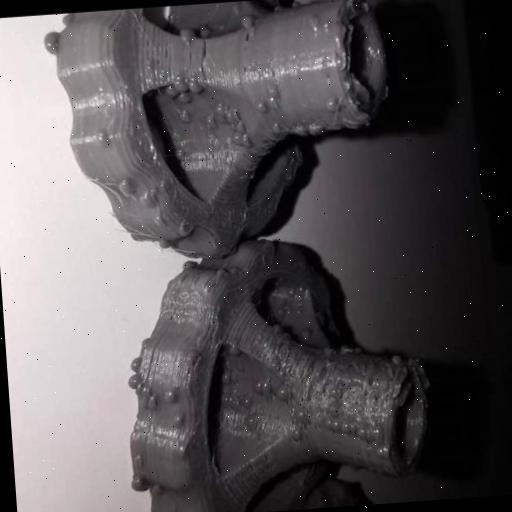blobs: (174, 24, 200, 48), (43, 27, 64, 56), (112, 176, 136, 200), (238, 12, 260, 34), (94, 128, 114, 152), (186, 76, 208, 96), (250, 94, 270, 116), (253, 376, 275, 396), (325, 96, 344, 116), (175, 105, 194, 125), (368, 422, 387, 442), (266, 117, 284, 137), (304, 118, 322, 138), (237, 132, 253, 154), (126, 372, 144, 391), (286, 426, 305, 444), (162, 82, 182, 99), (244, 410, 260, 430), (272, 384, 289, 402), (169, 408, 184, 428), (130, 473, 146, 491), (214, 100, 229, 119), (264, 91, 280, 108), (231, 120, 248, 136), (162, 386, 178, 403), (330, 416, 344, 434), (130, 356, 143, 374), (240, 394, 254, 410), (146, 394, 160, 410), (150, 482, 164, 498), (353, 427, 370, 440), (390, 351, 402, 369), (340, 422, 355, 436), (138, 384, 150, 399)
